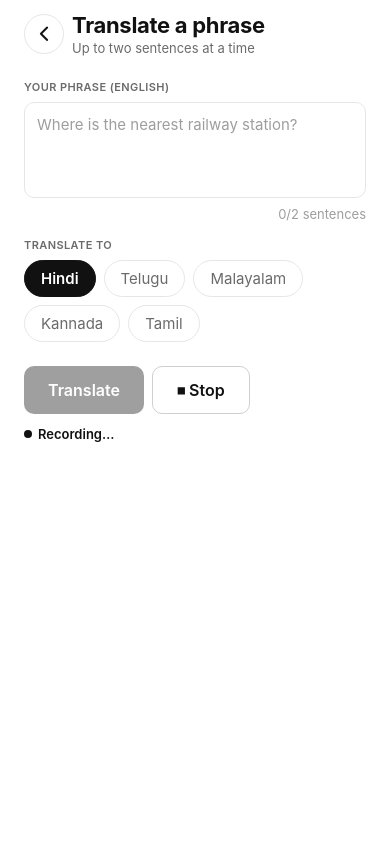
Test: TranslateScreen › stops recording and translates the transcribed speech
This screenshot has width=390, height=856.
Click the button with test id "record-speech-button" at (201, 390), box [152, 366, 250, 414]
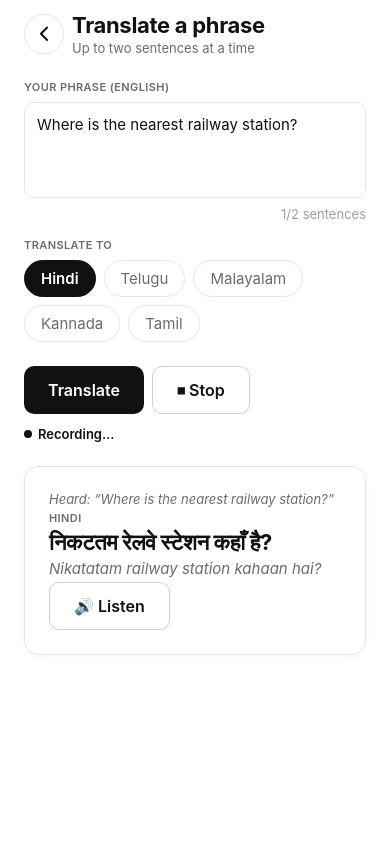
expect the element with test id "translate-result" is shown: met, box [24, 466, 366, 655]
expect the text "Heard: “Where is the nearest railway station?”" is shown: met, box [49, 491, 334, 507]
expect the text "निकटतम रेलवे स्टेशन कहाँ है?" is shown: met, box [49, 529, 272, 555]
